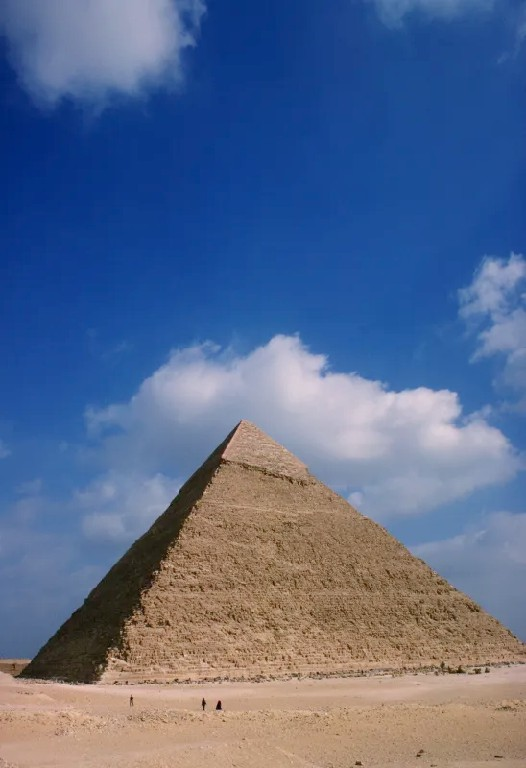Pyramid: (20, 418, 526, 682)
